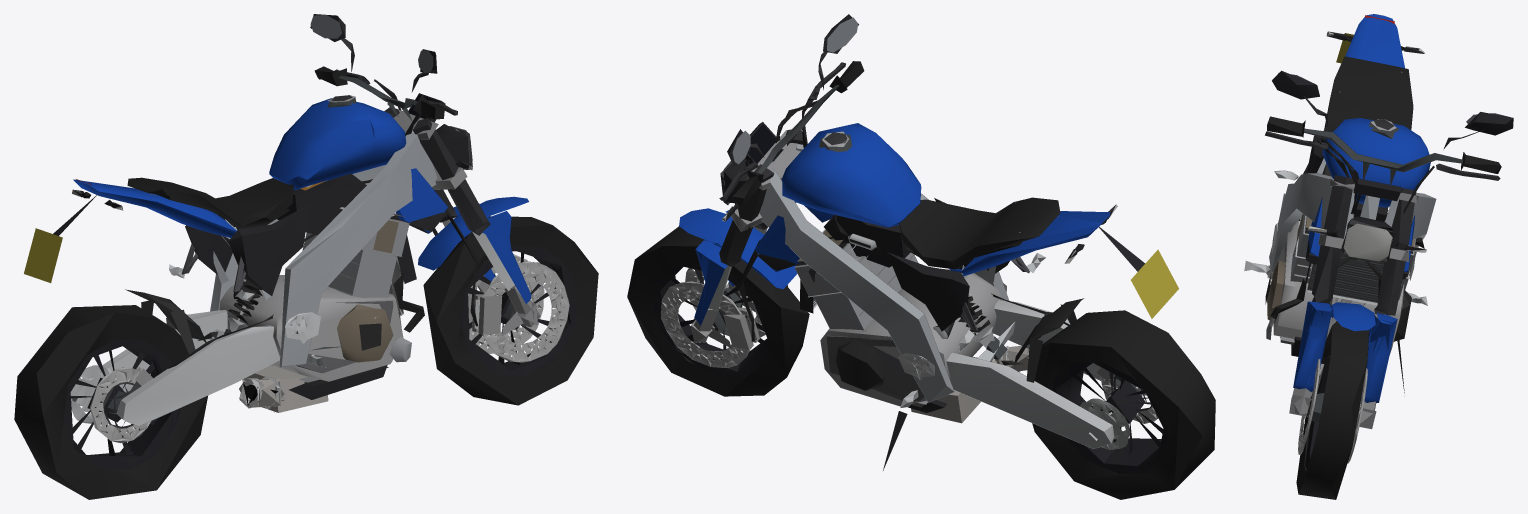
File: SM_Prop_house_bike_0_LOD1.glb
The picture shows the model from 3 angles, left to right: view 1: azimuth 30°, elevation 25°; view 2: azimuth 150°, elevation 25°; view 3: azimuth 270°, elevation 25°; orthographic projection. The views are drawn at different scales.
Visible parts, largest first — view 1: SM_Prop_house_bike_0_LOD1; view 2: SM_Prop_house_bike_0_LOD1; view 3: SM_Prop_house_bike_0_LOD1.
Boxes of the visible parts, bbox=[...] form: SM_Prop_house_bike_0_LOD1: bbox=[14, 14, 598, 499]; SM_Prop_house_bike_0_LOD1: bbox=[627, 14, 1215, 499]; SM_Prop_house_bike_0_LOD1: bbox=[1244, 14, 1513, 499].
Size of the model in its own units: 2.05 by 1.34 by 0.8675.
